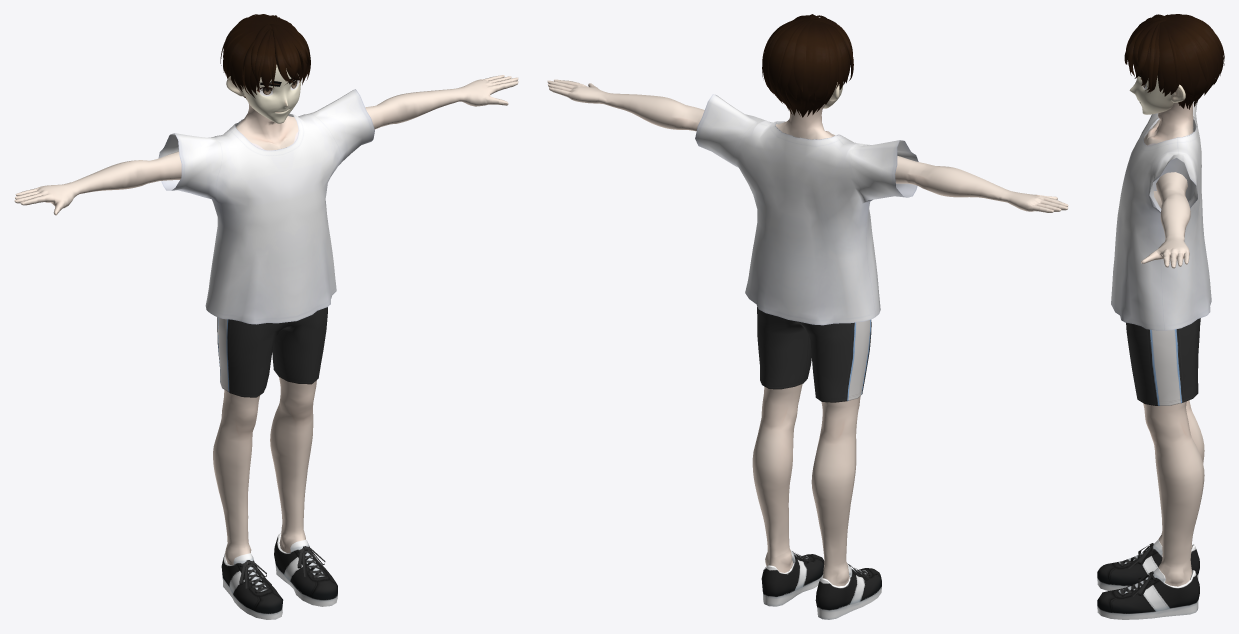
Rendered from Teenager Male.fbx.
The picture shows the model from 3 angles, left to right: view 1: azimuth 30°, elevation 25°; view 2: azimuth 150°, elevation 25°; view 3: azimuth 270°, elevation 25°; orthographic projection. The views are drawn at different scales.
Visible parts, largest first — view 1: Body; view 2: Body; view 3: Body.
Boxes of the visible parts, x1,y1,x2,y2 form: Body: [14, 14, 518, 619]; Body: [547, 14, 1068, 619]; Body: [1097, 14, 1224, 619].
Size of the model in its own units: 1.56 by 1.67 by 0.3314.
12 materials, 12 textured.
